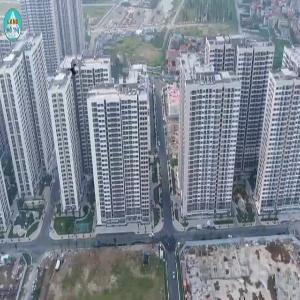drone: (56, 55, 93, 92)
